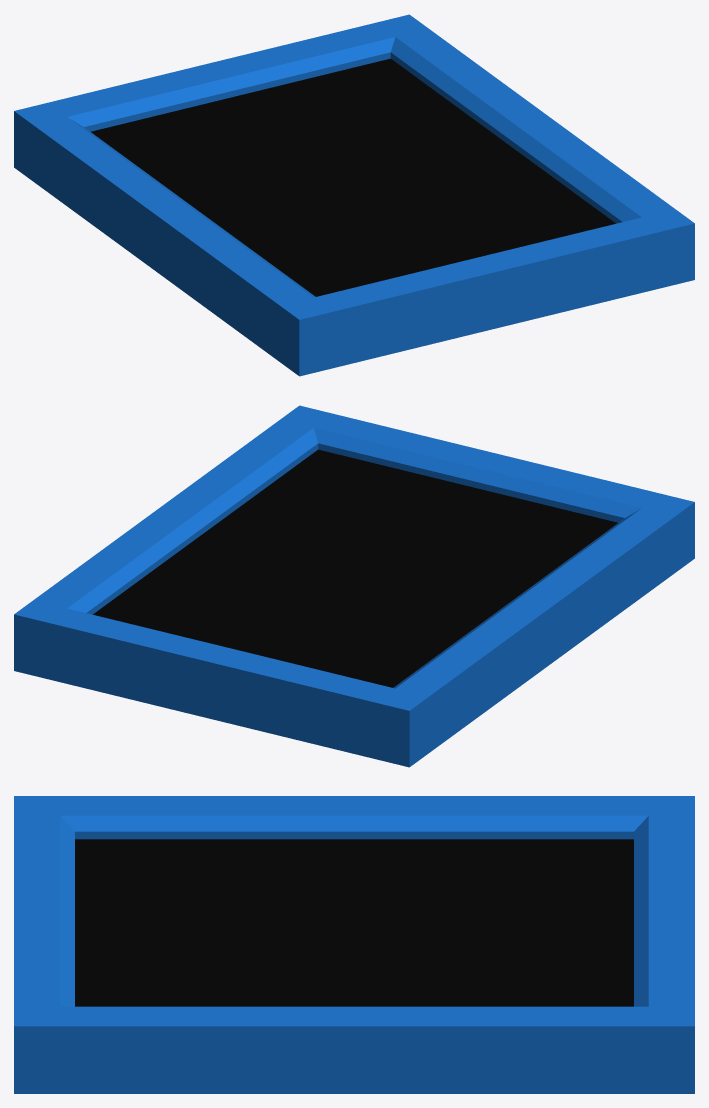
Rendered from space_icon_4.fbx.
The picture shows the model from 3 angles, top to bottom: view 1: azimuth 30°, elevation 25°; view 2: azimuth 150°, elevation 25°; view 3: azimuth 270°, elevation 25°; orthographic projection. The views are drawn at different scales.
Parts seen in each view (by area): view 1: Cube_5; view 2: Cube_5; view 3: Cube_5.
Boxes of the visible parts, bbox=[...] form: Cube_5: bbox=[14, 14, 694, 376]; Cube_5: bbox=[14, 405, 694, 767]; Cube_5: bbox=[14, 796, 694, 1093].
Bounding box in the file's own units: 40 × 5.46 × 50.
